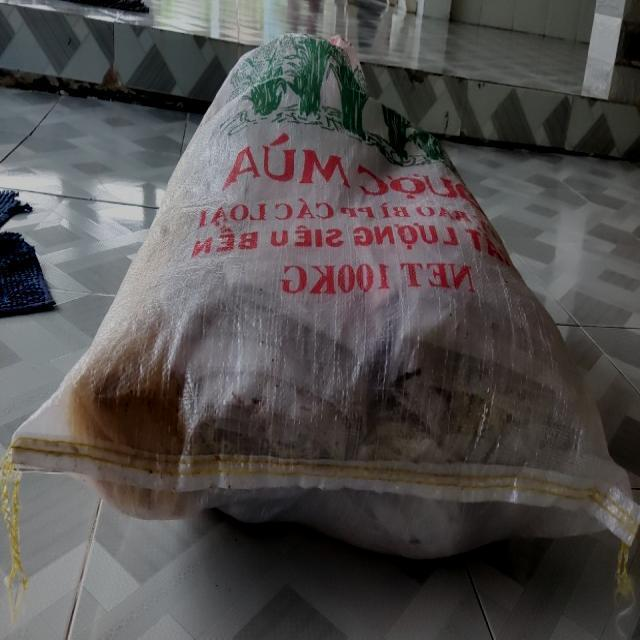gunny_bag: (8, 34, 640, 559)
